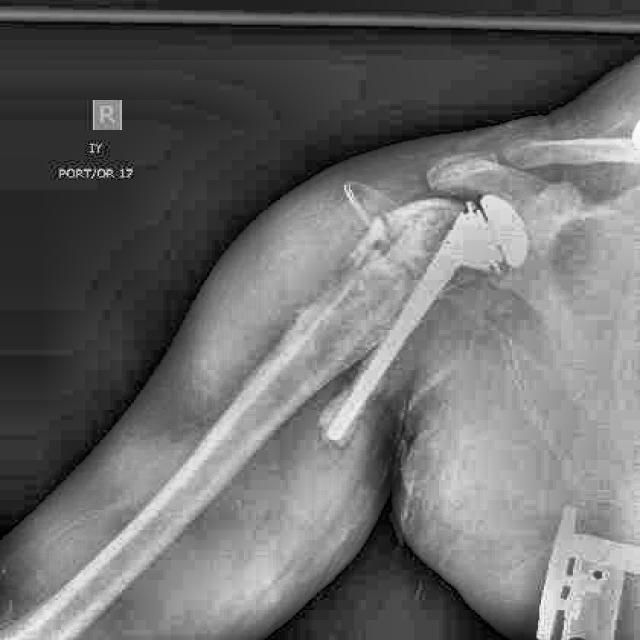shoulder fracture: (259, 225, 416, 339), (474, 126, 546, 191)
